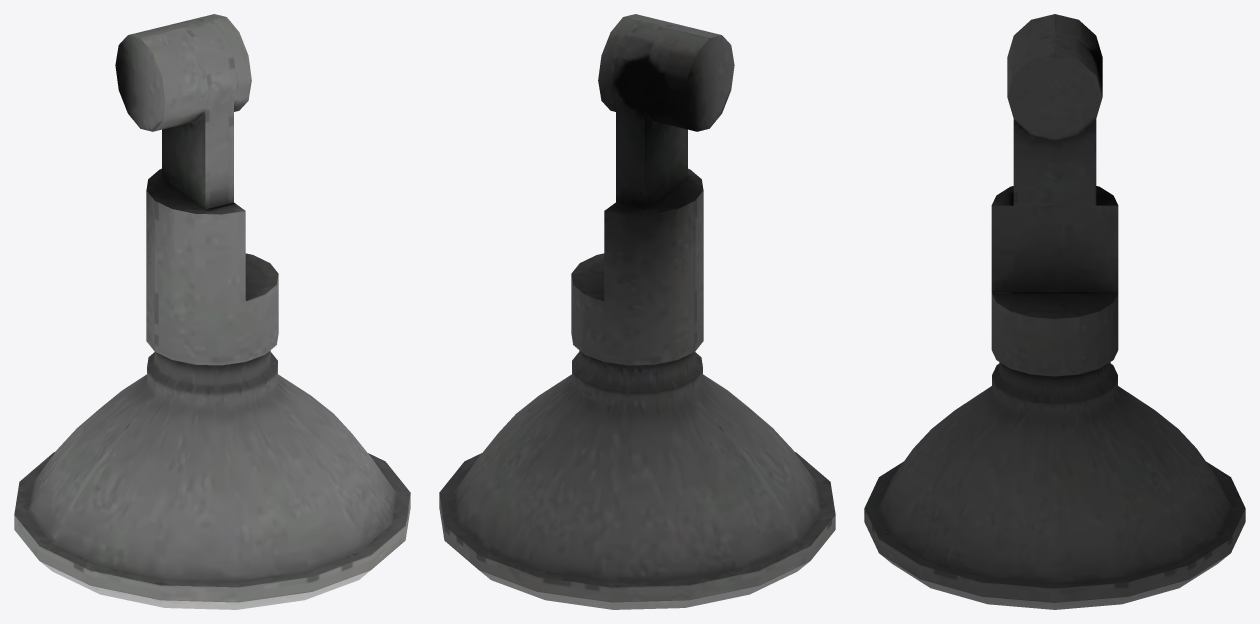
3 renders of one model, left to right at view 1: azimuth 30°, elevation 25°; view 2: azimuth 150°, elevation 25°; view 3: azimuth 270°, elevation 25°, orthographic. The views are drawn at different scales.
Parts seen in each view (by area): view 1: body0_model0_lod0_mesh0; view 2: body0_model0_lod0_mesh0; view 3: body0_model0_lod0_mesh0.
Boxes of the visible parts, x1=… form: body0_model0_lod0_mesh0: x1=14, y1=14, x2=410, y2=609; body0_model0_lod0_mesh0: x1=439, y1=14, x2=835, y2=609; body0_model0_lod0_mesh0: x1=864, y1=14, x2=1245, y2=609.
Size of the model in its own units: 24 by 35.4 by 24.
1 material, 1 textured.
